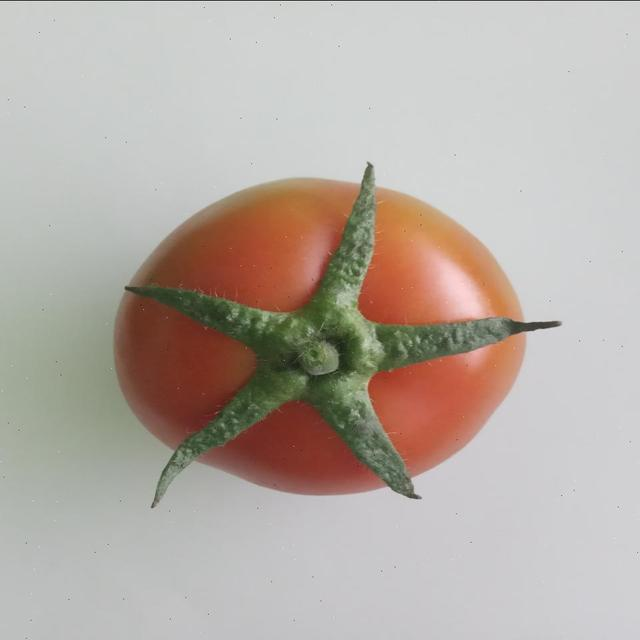Healthy Fruit: (71, 110, 377, 340)
